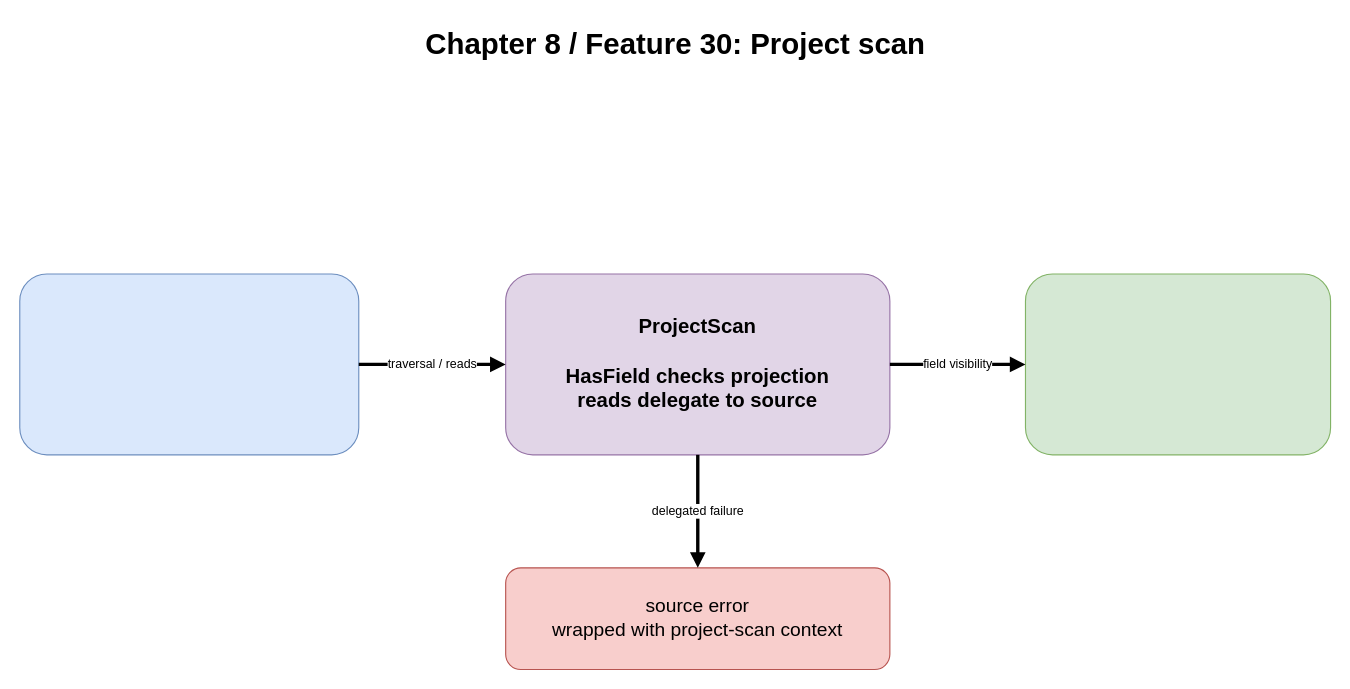
Some shapes in this 1350 by 689 pixel diagram are drawn without their labels. The shapes that lost their labels are listed below. From the top down, each one's centre as x and y in pixels, then its label:
the point at 189,364: Input Scan all source fields rows unchanged
the point at 1177,364: Visible fields id · grade name is not projected
